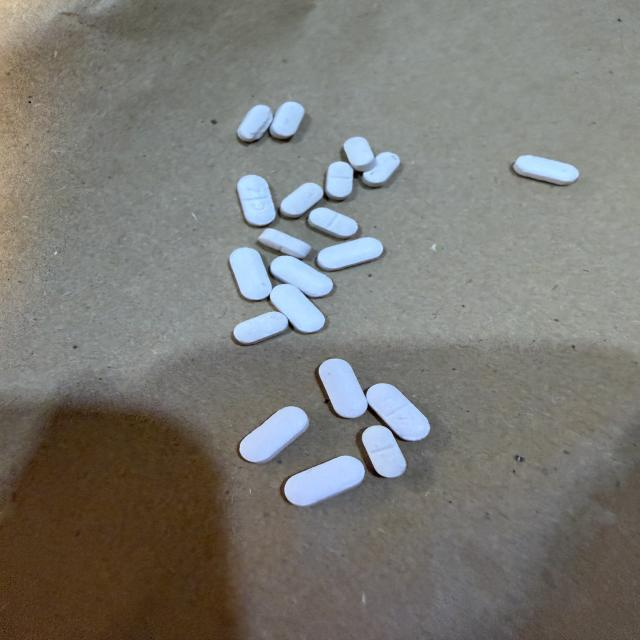pill: (284, 456, 364, 506), (240, 407, 308, 463), (367, 384, 430, 440), (319, 359, 367, 418), (270, 284, 325, 333), (270, 256, 332, 297), (362, 425, 406, 477), (317, 237, 383, 270), (230, 248, 271, 300), (237, 175, 275, 226), (514, 156, 579, 185), (234, 312, 288, 344), (258, 229, 311, 258), (280, 183, 323, 218), (308, 208, 357, 238), (362, 152, 400, 187), (238, 105, 273, 142), (270, 102, 304, 139), (344, 137, 376, 171), (325, 162, 353, 200)
